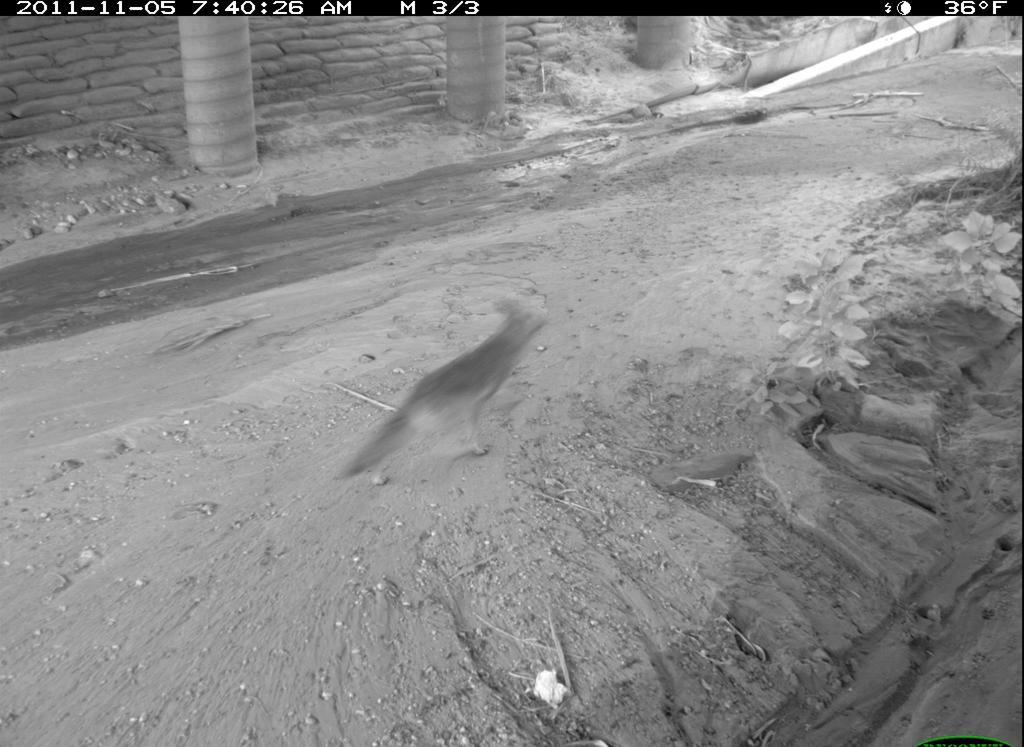coyote: (329, 287, 571, 515)
